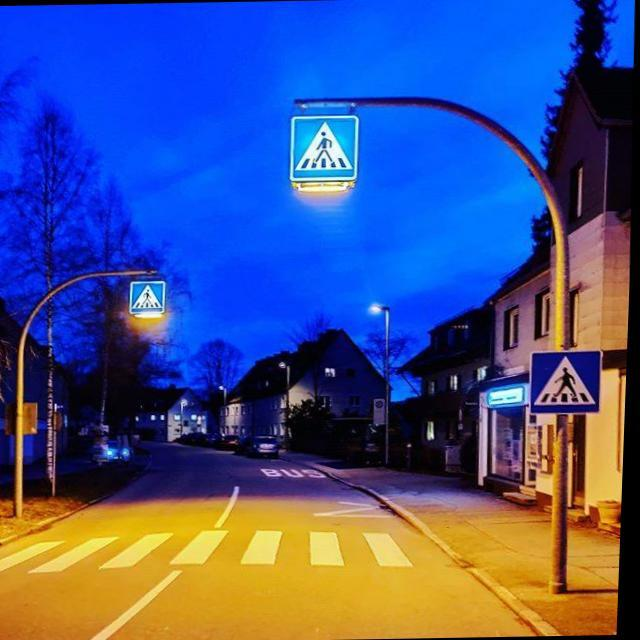crosswalk-sign: (290, 115, 361, 188), (529, 350, 602, 416), (129, 280, 167, 316)
